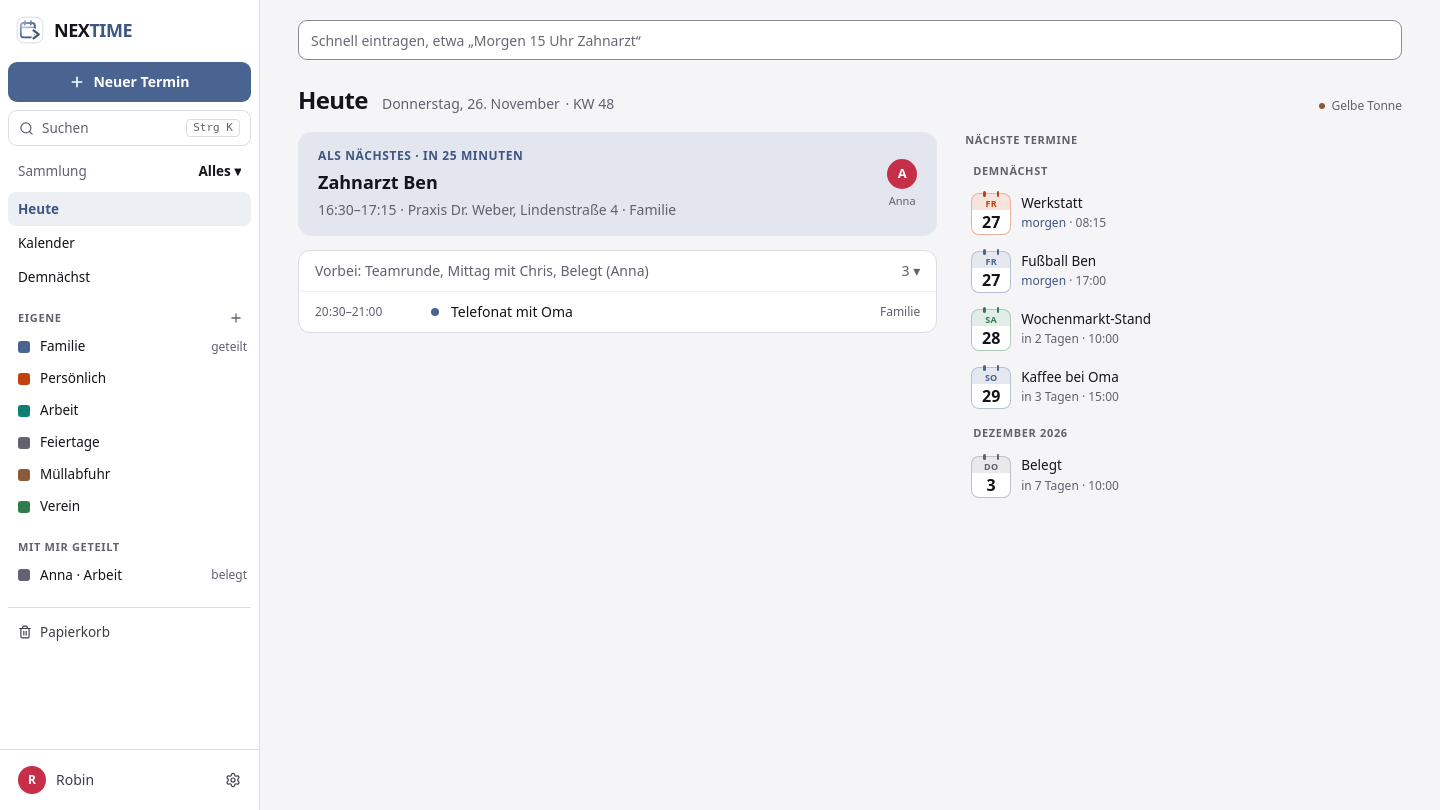
TIME-13 switching › TIME-13 AC-3 a chosen collection shows only its calendars, and the choice stays on this device
Click the button "Sammlung Alles ▾": (130, 171) x1=8 y1=154 x2=251 y2=188
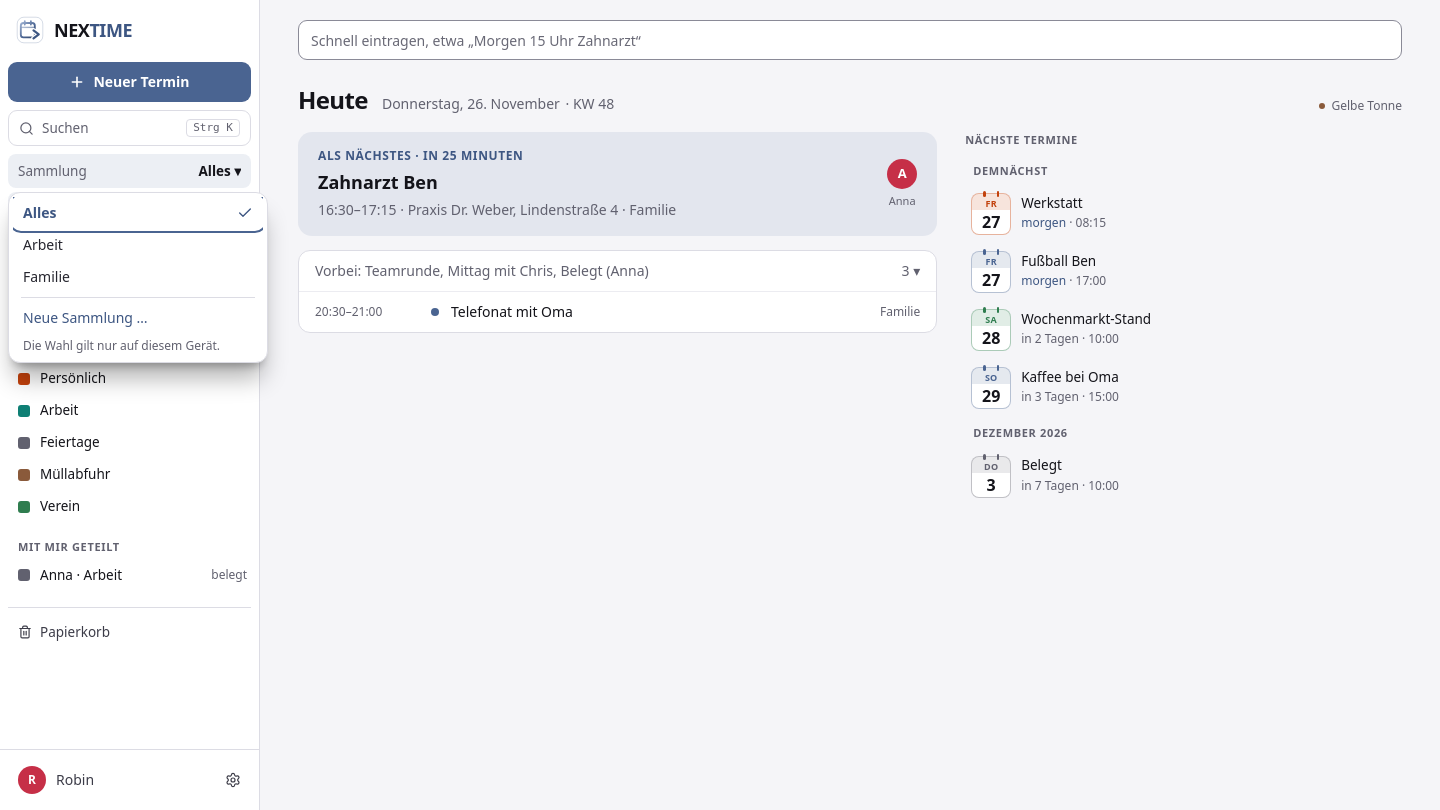
Click the menu item "Familie": (138, 277) x1=13 y1=261 x2=263 y2=293
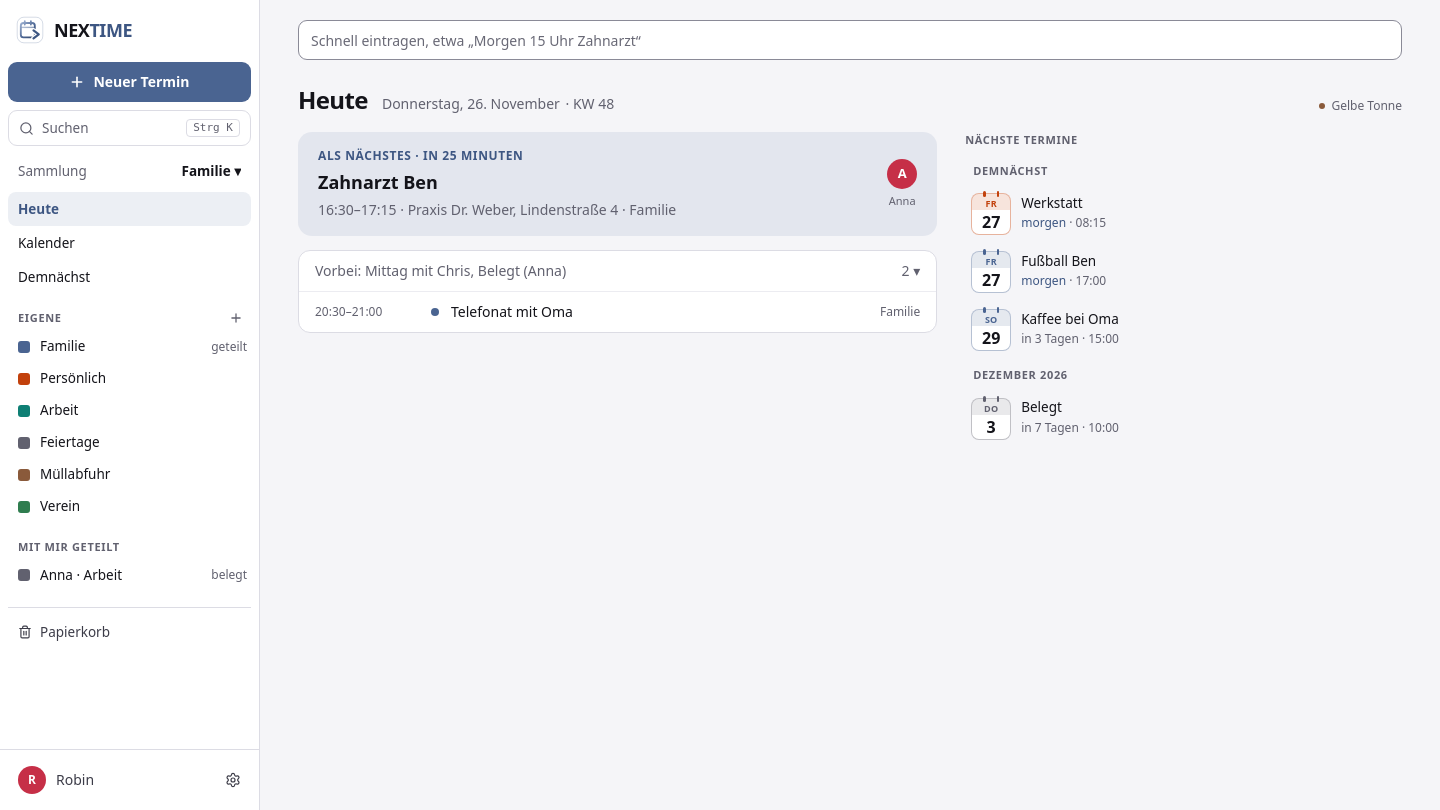
expect the button with test id "today-column" no longer shows "Teamrunde": met
